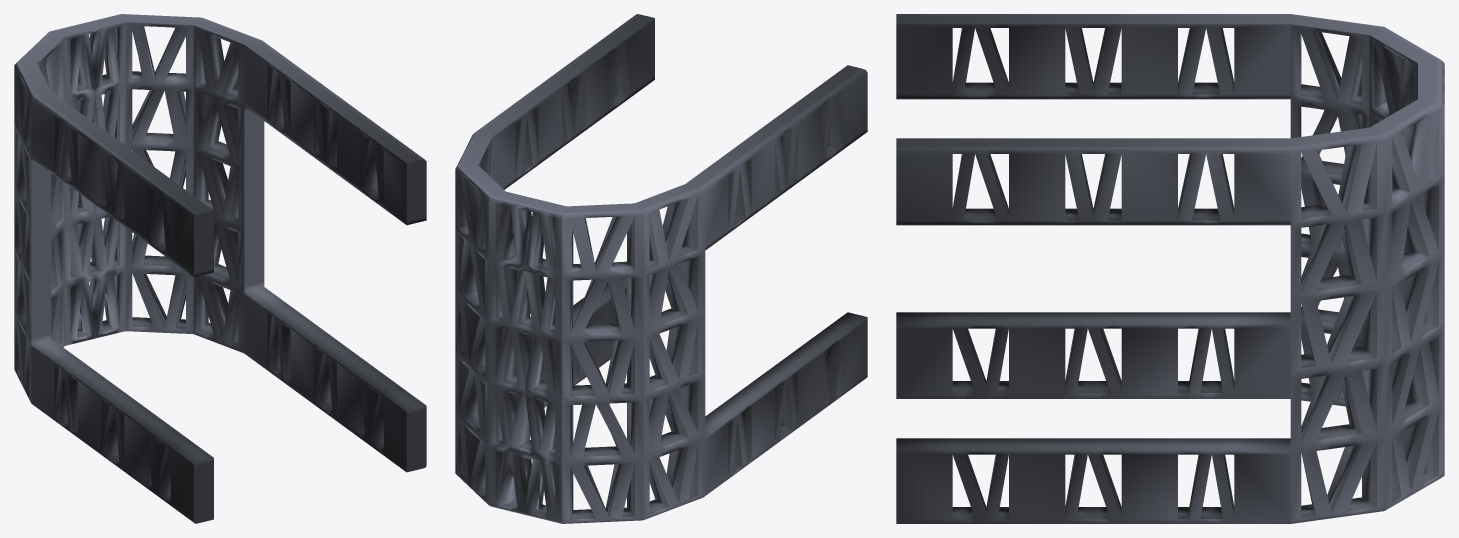
Rendered from SpacePart_Arch.fbx.
The picture shows the model from 3 angles, left to right: view 1: azimuth 30°, elevation 25°; view 2: azimuth 150°, elevation 25°; view 3: azimuth 270°, elevation 25°; orthographic projection. The views are drawn at different scales.
Parts seen in each view (by area): view 1: Arch; view 2: Arch; view 3: Arch.
Part boxes in pixels (x1,y1,x2,y2): Arch: (14, 14, 426, 523); Arch: (455, 14, 867, 523); Arch: (896, 14, 1444, 523).
Size of the model in its own units: 2394 by 3034 by 4024.
